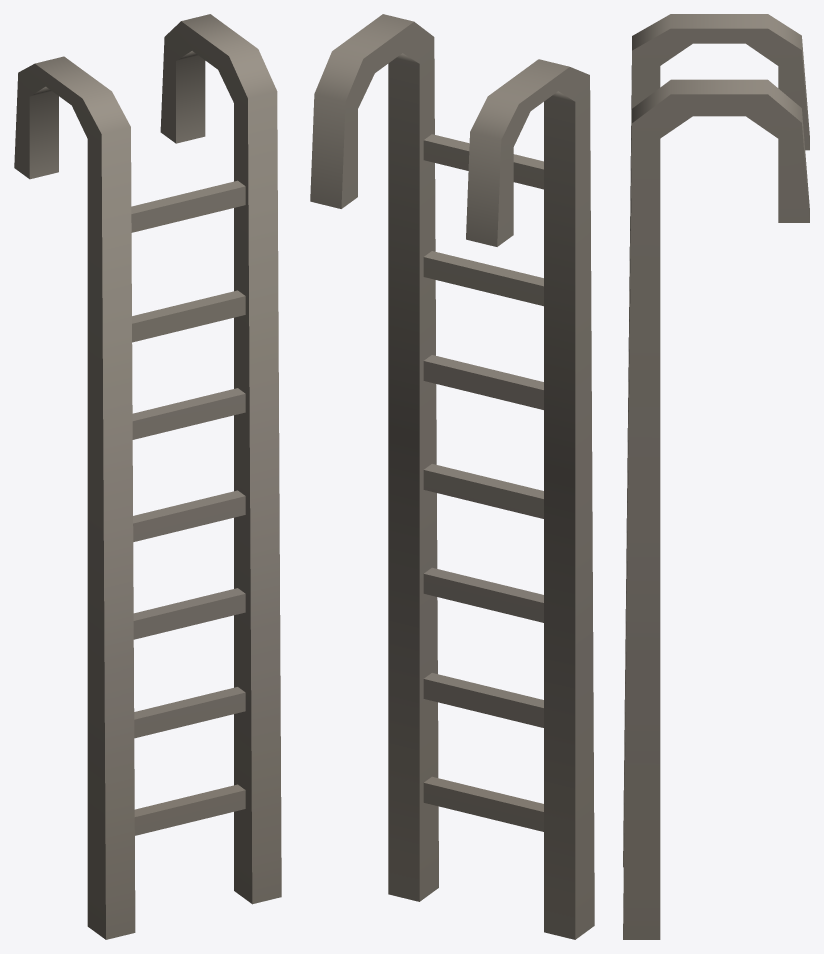
Rendered from Ladder_1_A.fbx.
The picture shows the model from 3 angles, left to right: view 1: azimuth 30°, elevation 25°; view 2: azimuth 150°, elevation 25°; view 3: azimuth 270°, elevation 25°; orthographic projection. The views are drawn at different scales.
Visible parts, largest first — view 1: Ladder_1_A; view 2: Ladder_1_A; view 3: Ladder_1_A.
Part boxes in pixels (x1,y1,x2,y2): Ladder_1_A: (14,14,281,939); Ladder_1_A: (310,14,594,939); Ladder_1_A: (623,14,809,939).
Size of the model in its own units: 65.17 by 295 by 58.95.
